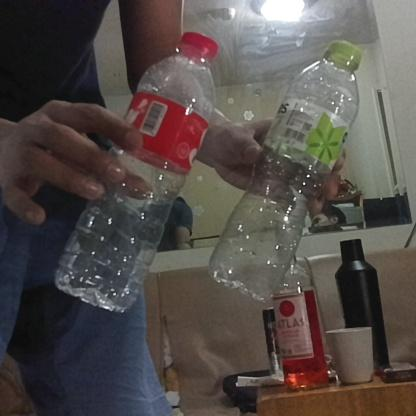plastic_bottles: (59, 29, 222, 311), (202, 39, 364, 298)
